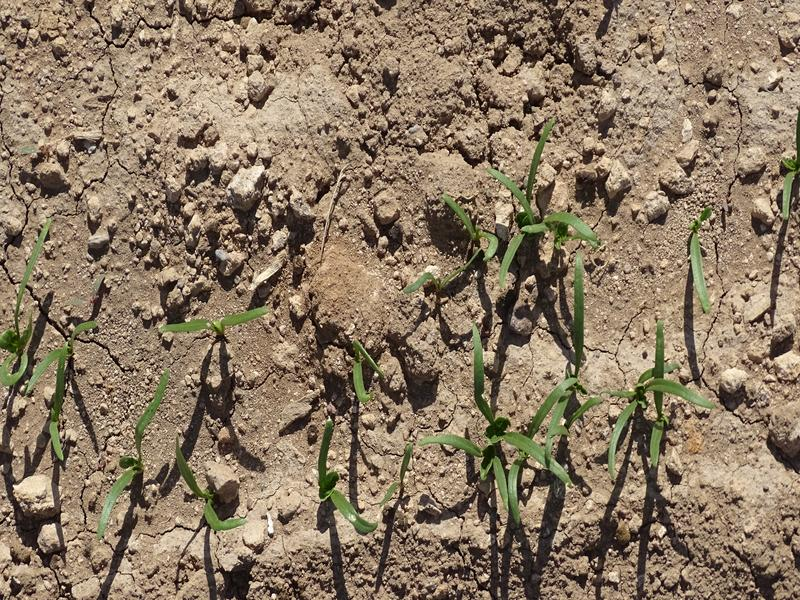Espinaca: (417, 348, 600, 511), (5, 218, 97, 455), (97, 380, 243, 528), (461, 134, 602, 287), (613, 331, 700, 464), (319, 432, 376, 532), (684, 209, 717, 312), (164, 305, 274, 332), (353, 342, 379, 396)
